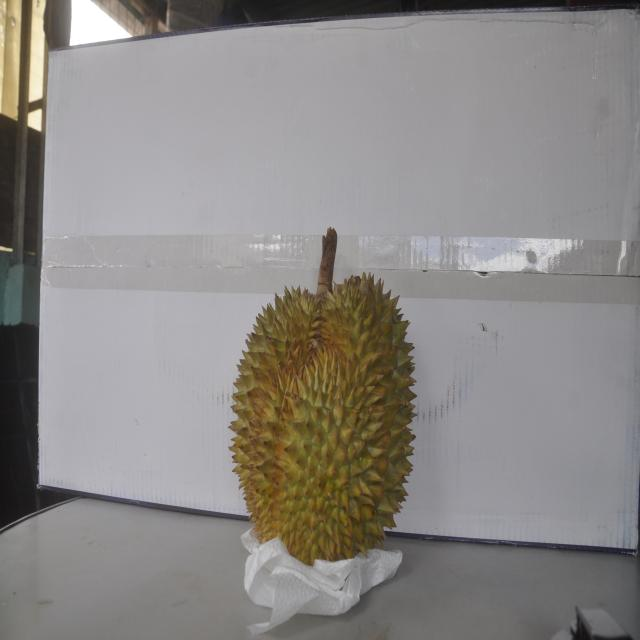mature: (229, 246, 417, 568)
